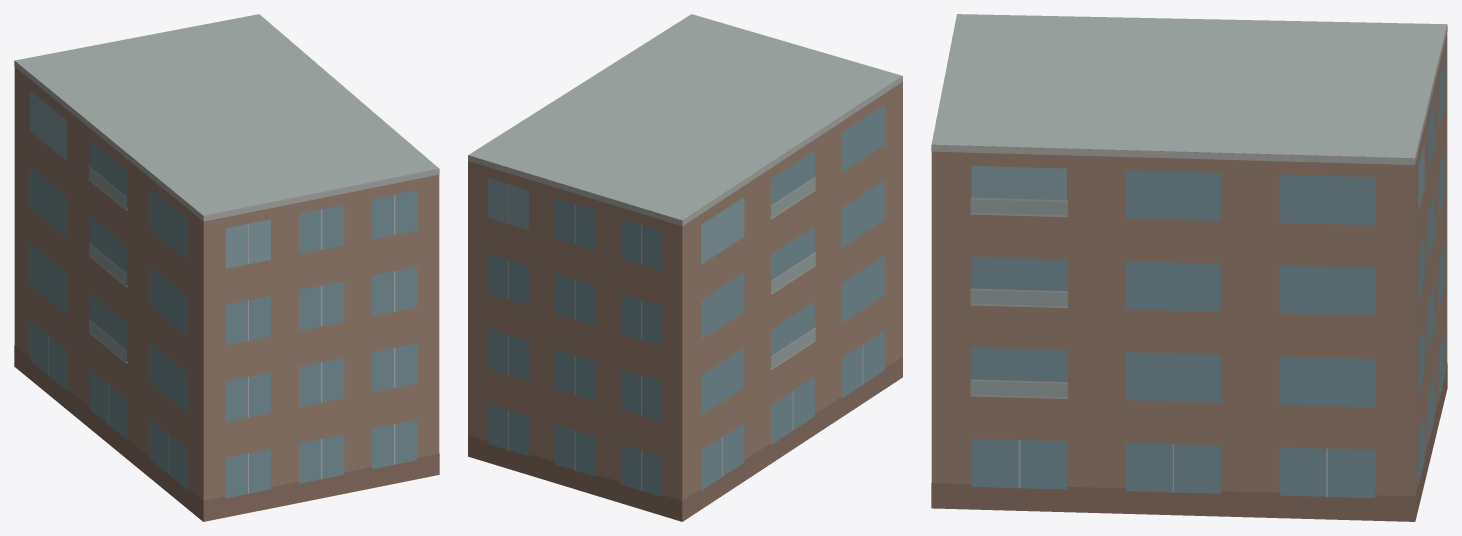
Rendered from survey-upis-32753450.glb.
3 views of the same model, side by side, from view 1: azimuth 30°, elevation 25°; view 2: azimuth 150°, elevation 25°; view 3: azimuth 270°, elevation 25° (orthographic). The views are drawn at different scales.
Parts seen in each view (by area): view 1: survey-upis-32753450.tmp; view 2: survey-upis-32753450.tmp; view 3: survey-upis-32753450.tmp.
Boxes of the visible parts, <box> form: survey-upis-32753450.tmp: <box>14,14,439,521</box>; survey-upis-32753450.tmp: <box>468,14,902,521</box>; survey-upis-32753450.tmp: <box>931,14,1447,521</box>.
Size of the model in its own units: 10.89 by 12.8 by 16.47.
